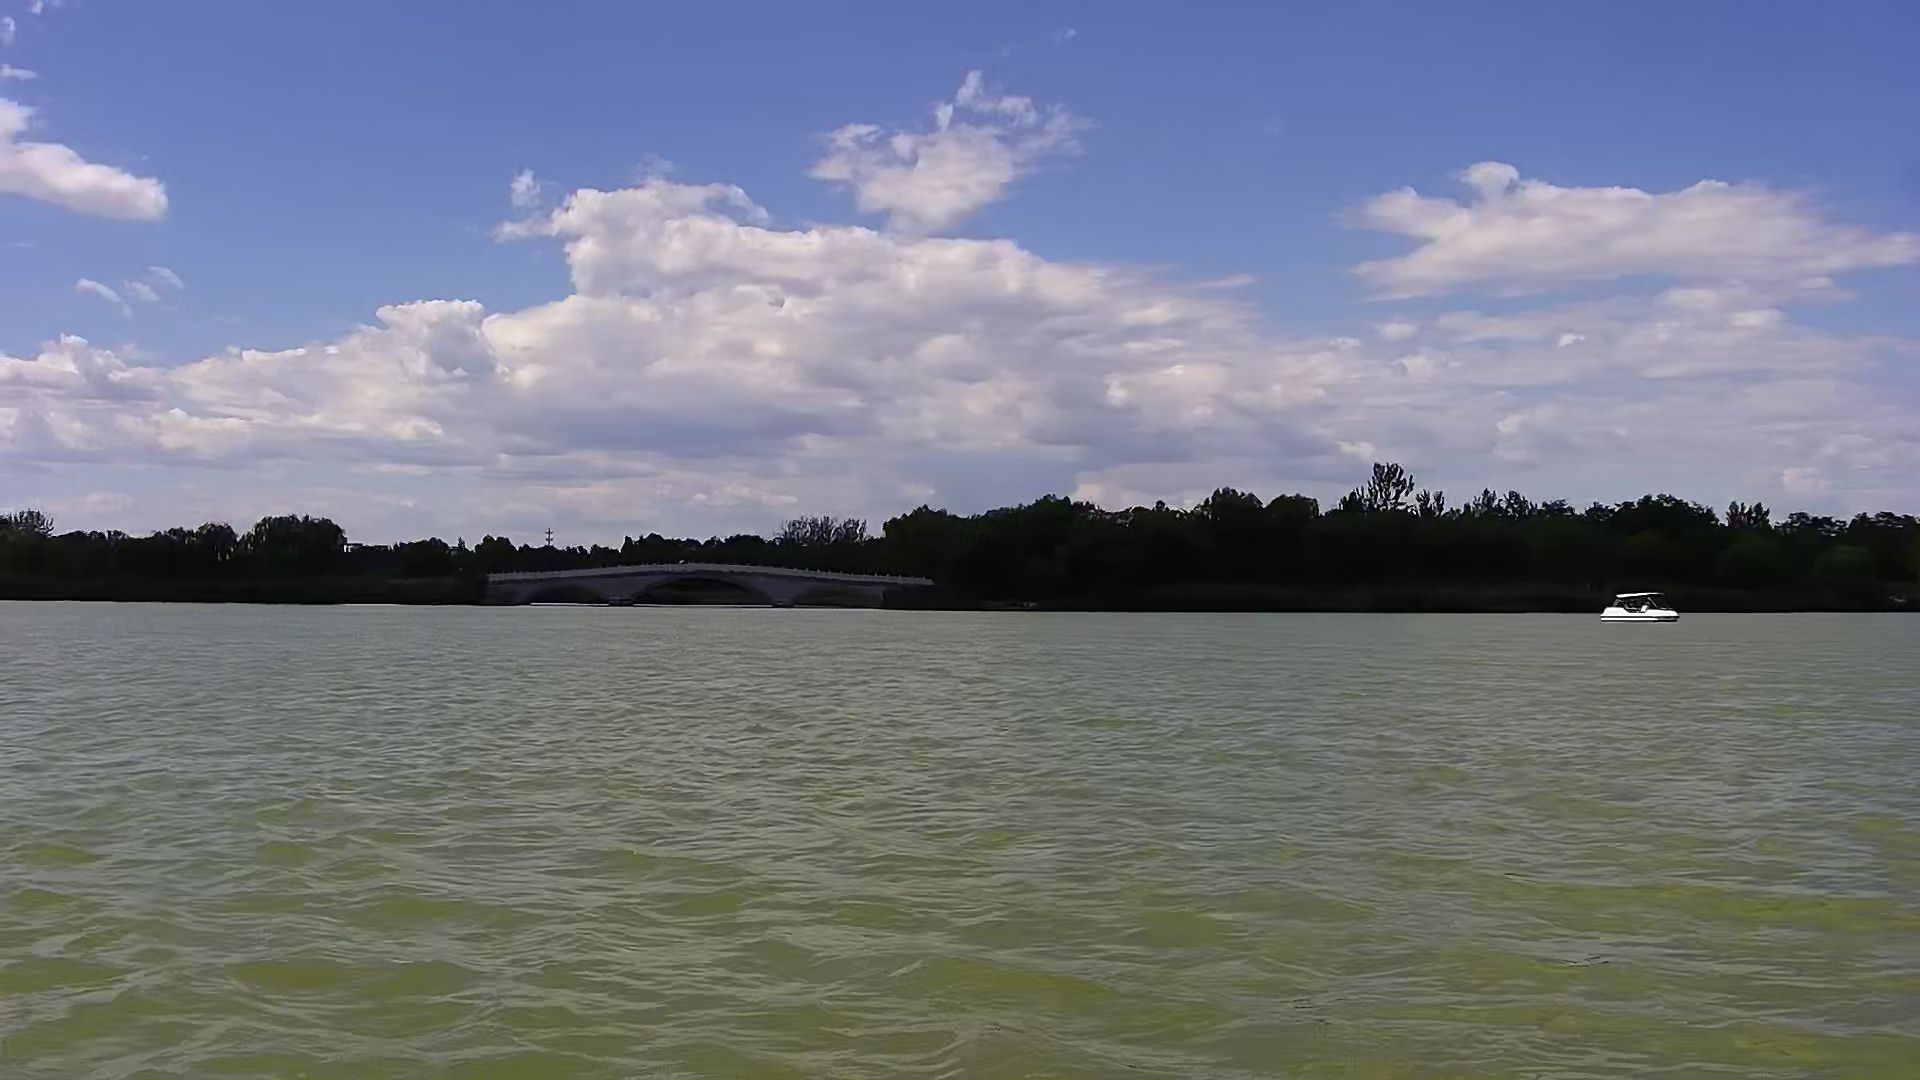boat: (1602, 585, 1680, 632)
bridge: (471, 554, 947, 630)
